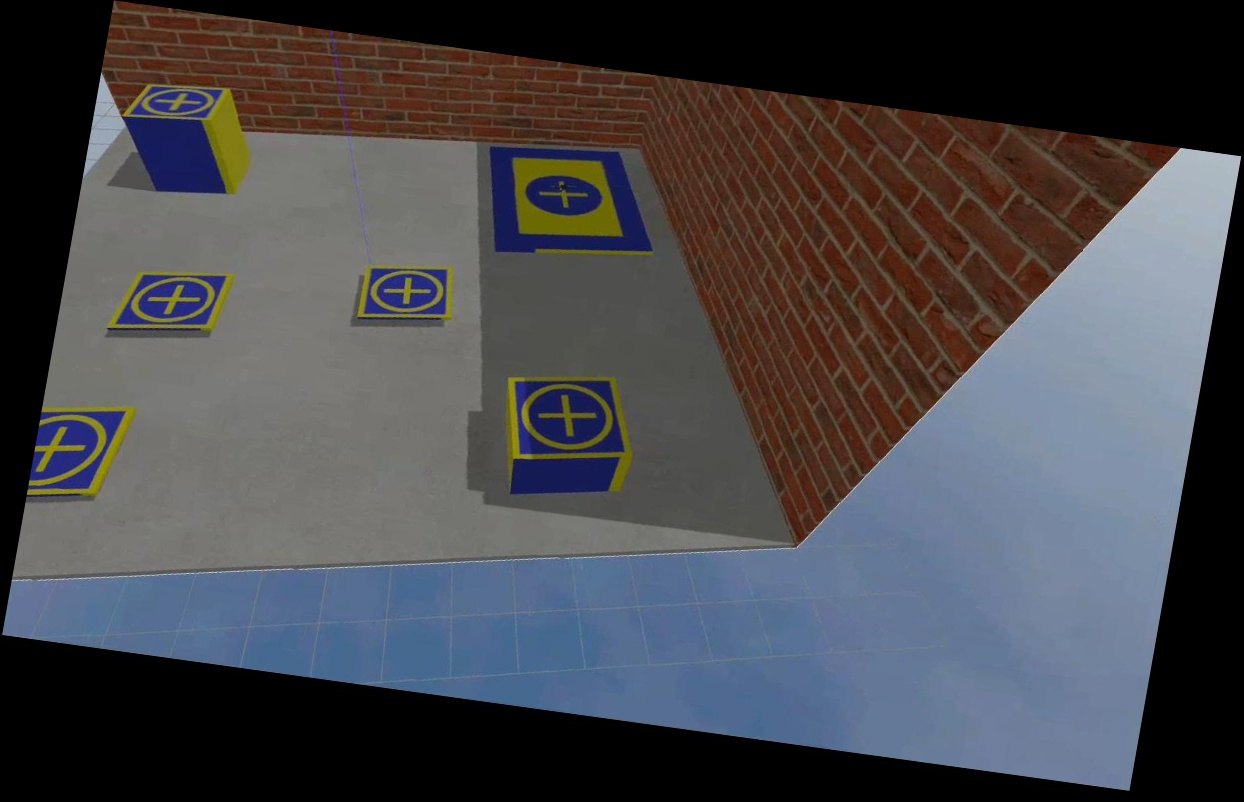large_base: (479, 139, 669, 268)
small_base: (491, 362, 650, 485), (36, 396, 134, 505), (111, 263, 233, 344), (352, 255, 461, 333), (128, 82, 231, 136)
